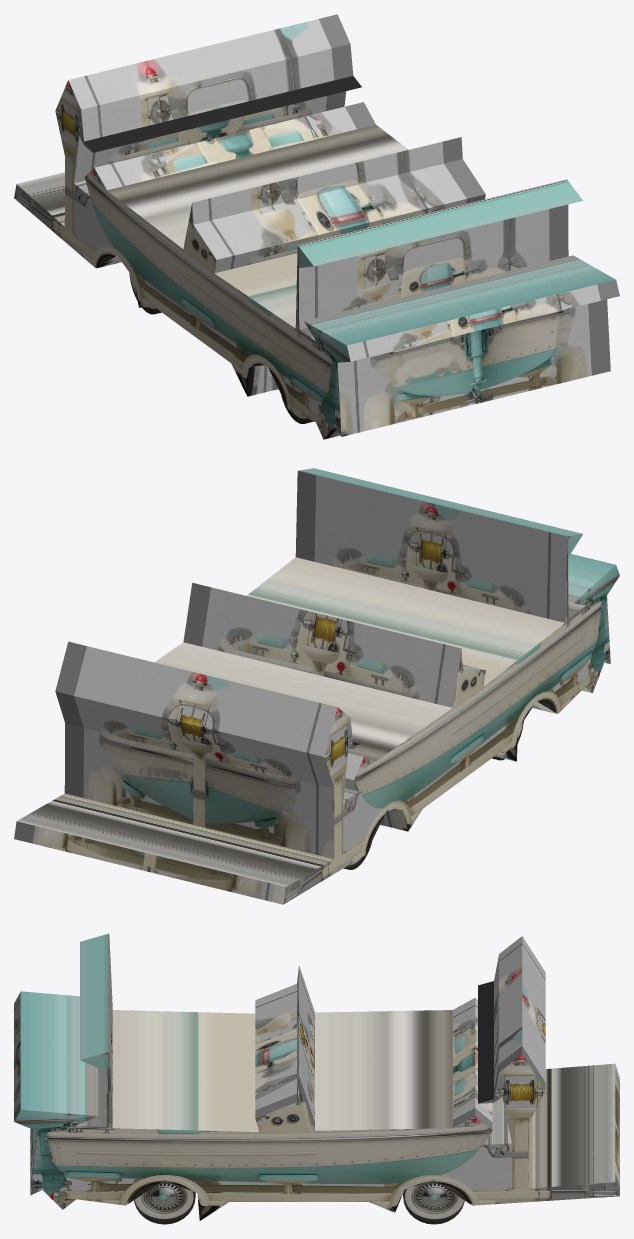
The model's file is boat_trailer.glb.
3 renders of one model, top to bottom at view 1: azimuth 30°, elevation 25°; view 2: azimuth 150°, elevation 25°; view 3: azimuth 270°, elevation 25°, orthographic. The views are drawn at different scales.
Parts seen in each view (by area): view 1: boat_trailer; view 2: boat_trailer; view 3: boat_trailer, wheel_FR, wheel_BR.
Part boxes in pixels (left/top/right/bottom): boat_trailer: left=14, top=14, right=619, bottom=439; boat_trailer: left=14, top=468, right=619, bottom=904; boat_trailer: left=14, top=933, right=619, bottom=1220; wheel_FR: left=403, top=1180, right=464, bottom=1224; wheel_BR: left=134, top=1180, right=195, bottom=1224.
Size of the model in its own units: 3 by 2.19 by 6.49.
Materials: 3 (1 with a texture image).
